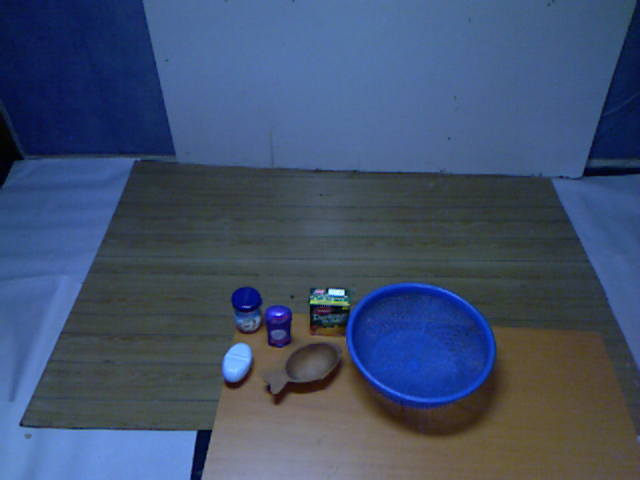colador: (341, 276, 504, 417)
crema: (227, 284, 265, 334)
desodorante: (261, 305, 294, 352)
durazno: (304, 284, 354, 343)
jabon: (218, 341, 253, 387)
pescado: (257, 338, 344, 399)
